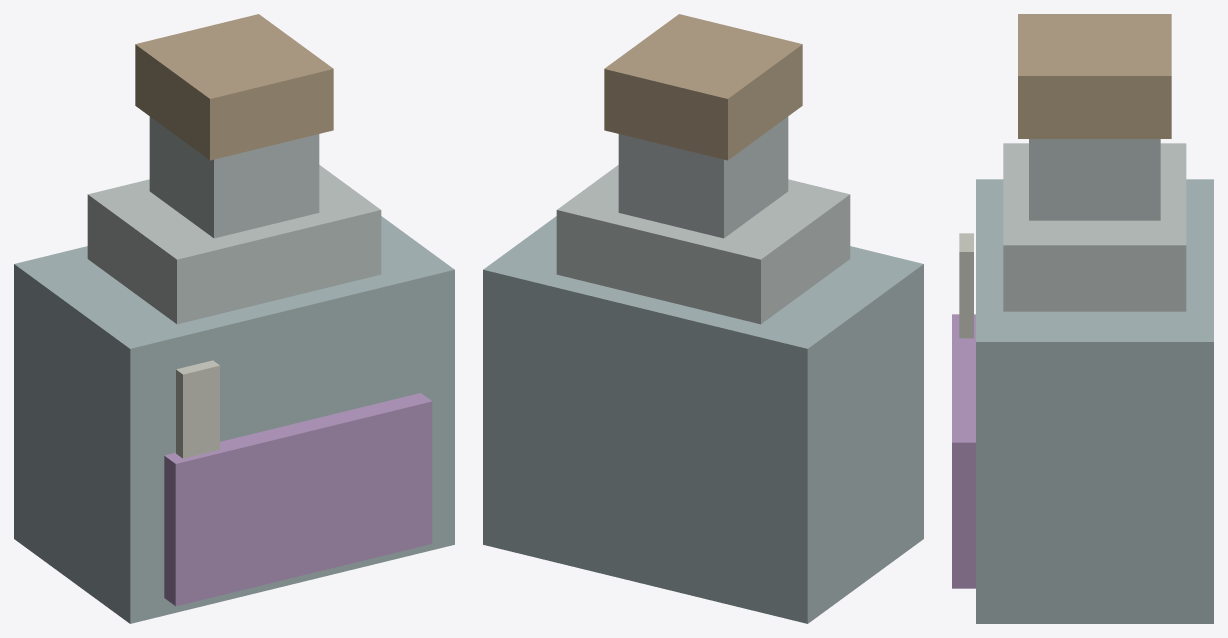
File: item_potion.glb
3 renders of one model, left to right at view 1: azimuth 30°, elevation 25°; view 2: azimuth 150°, elevation 25°; view 3: azimuth 270°, elevation 25°, orthographic. The views are drawn at different scales.
Visible parts, largest first — view 1: item_potion; view 2: item_potion; view 3: item_potion.
Boxes of the visible parts, <box> form: item_potion: <box>14,14,454,623</box>; item_potion: <box>483,14,923,623</box>; item_potion: <box>952,14,1213,623</box>.
Size of the model in its own units: 1.05 by 1.5 by 0.715.
